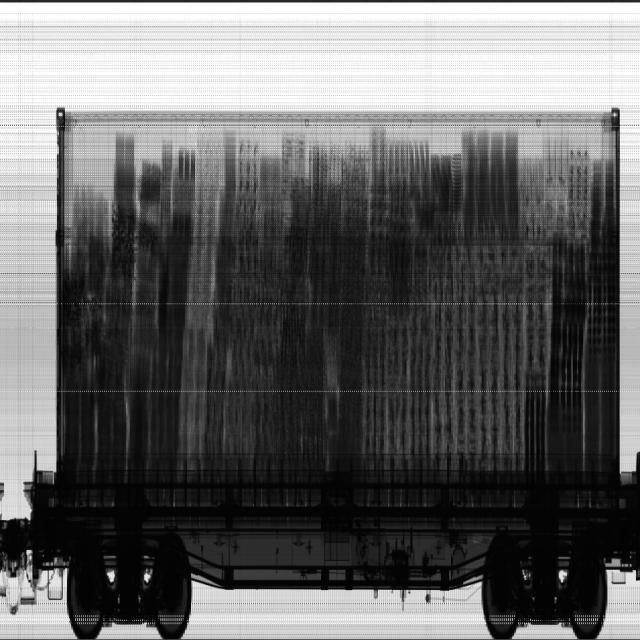clothes: (65, 392, 151, 459)
shoes: (342, 140, 371, 232)
